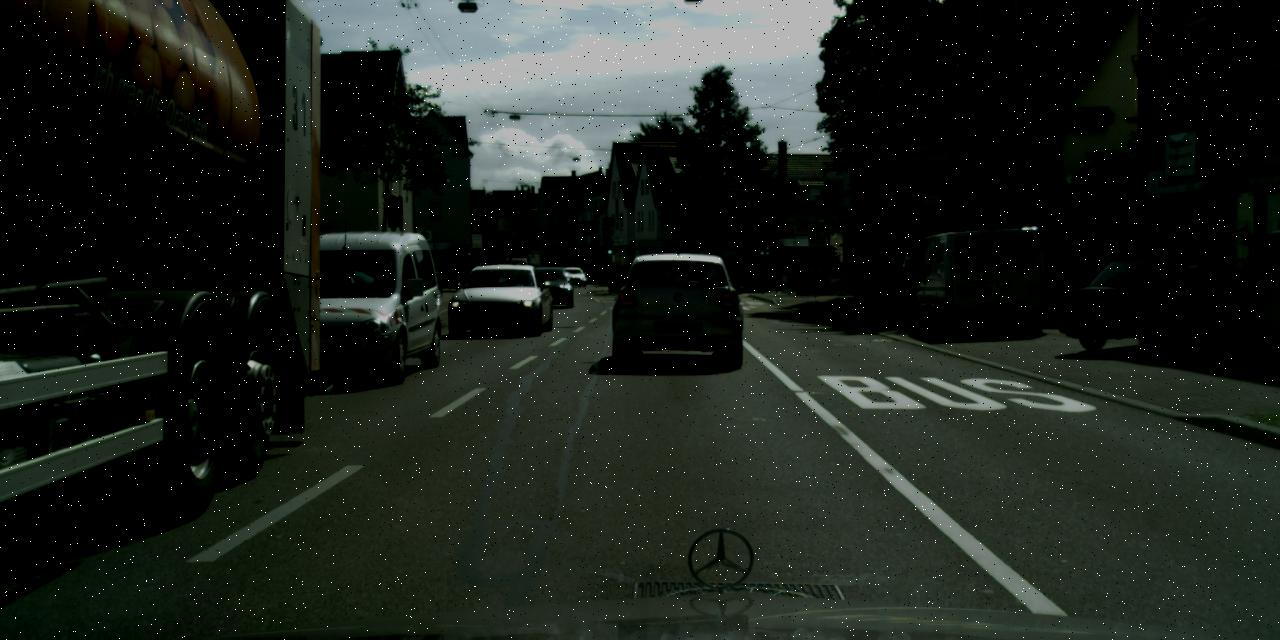ped: (802, 260, 816, 294)
